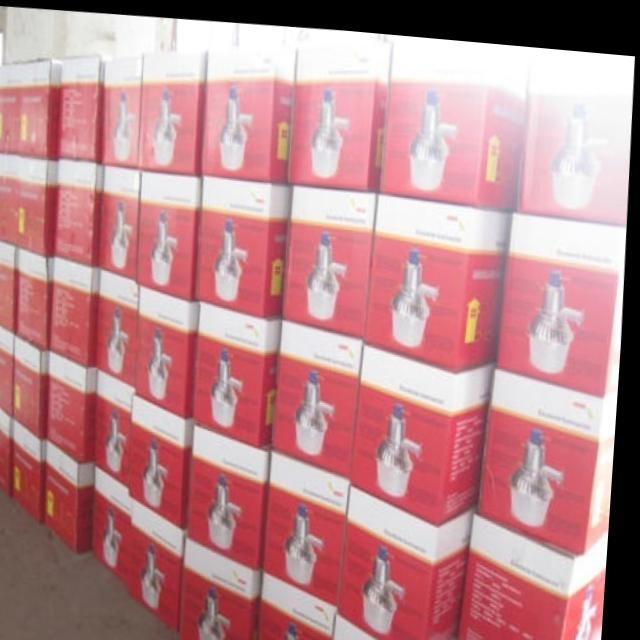box: (483, 357, 623, 543), (356, 335, 497, 518), (368, 185, 513, 362), (500, 200, 629, 383), (382, 40, 528, 199), (344, 474, 479, 640), (465, 501, 615, 640), (521, 50, 634, 211), (291, 34, 391, 184), (277, 313, 367, 473), (286, 178, 378, 331), (268, 445, 355, 600), (203, 37, 294, 177), (198, 295, 285, 440), (201, 172, 291, 311), (193, 418, 275, 565), (135, 389, 198, 526), (140, 280, 203, 414), (188, 534, 267, 640), (140, 44, 206, 170), (141, 167, 203, 297), (134, 494, 190, 633), (264, 567, 344, 640), (50, 436, 99, 552), (51, 351, 98, 463), (54, 257, 103, 363), (98, 268, 141, 384), (59, 158, 104, 264), (58, 56, 104, 158), (17, 58, 63, 157), (98, 464, 135, 582), (103, 163, 141, 277), (17, 152, 59, 255), (104, 54, 143, 163), (100, 369, 136, 485), (19, 248, 57, 349), (19, 337, 54, 436), (17, 421, 50, 525), (0, 153, 19, 246), (0, 240, 19, 332), (0, 63, 19, 150), (0, 405, 17, 496), (0, 326, 17, 416)
